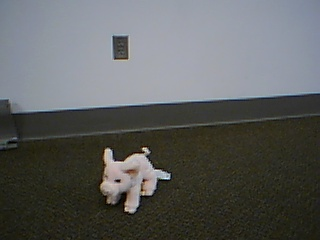piggy: (99, 144, 159, 216)
